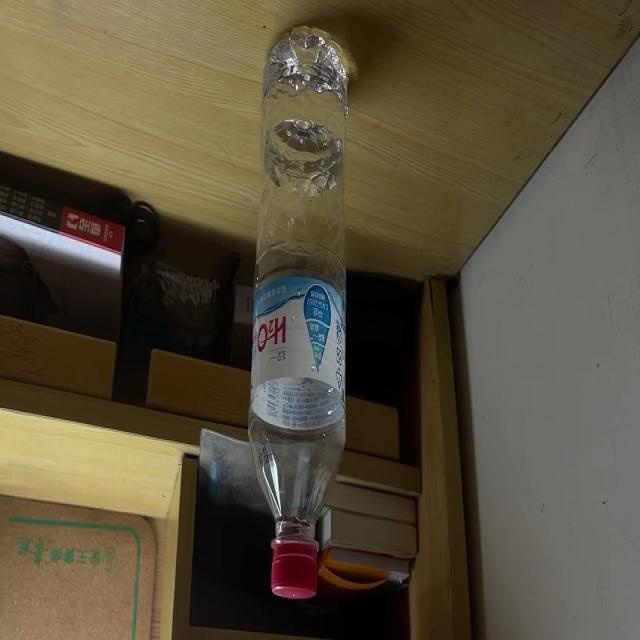Water: (249, 27, 344, 600)
